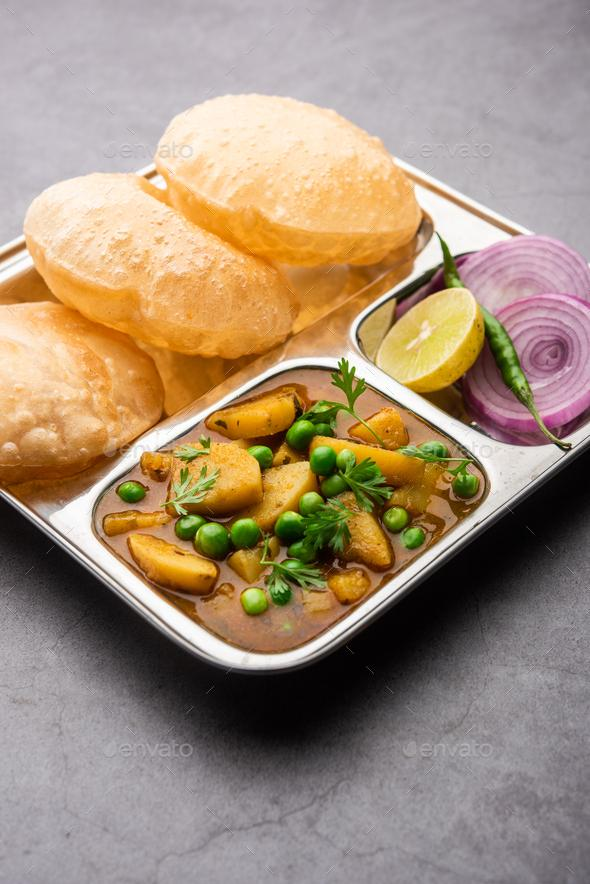puri: (5, 102, 438, 342)
